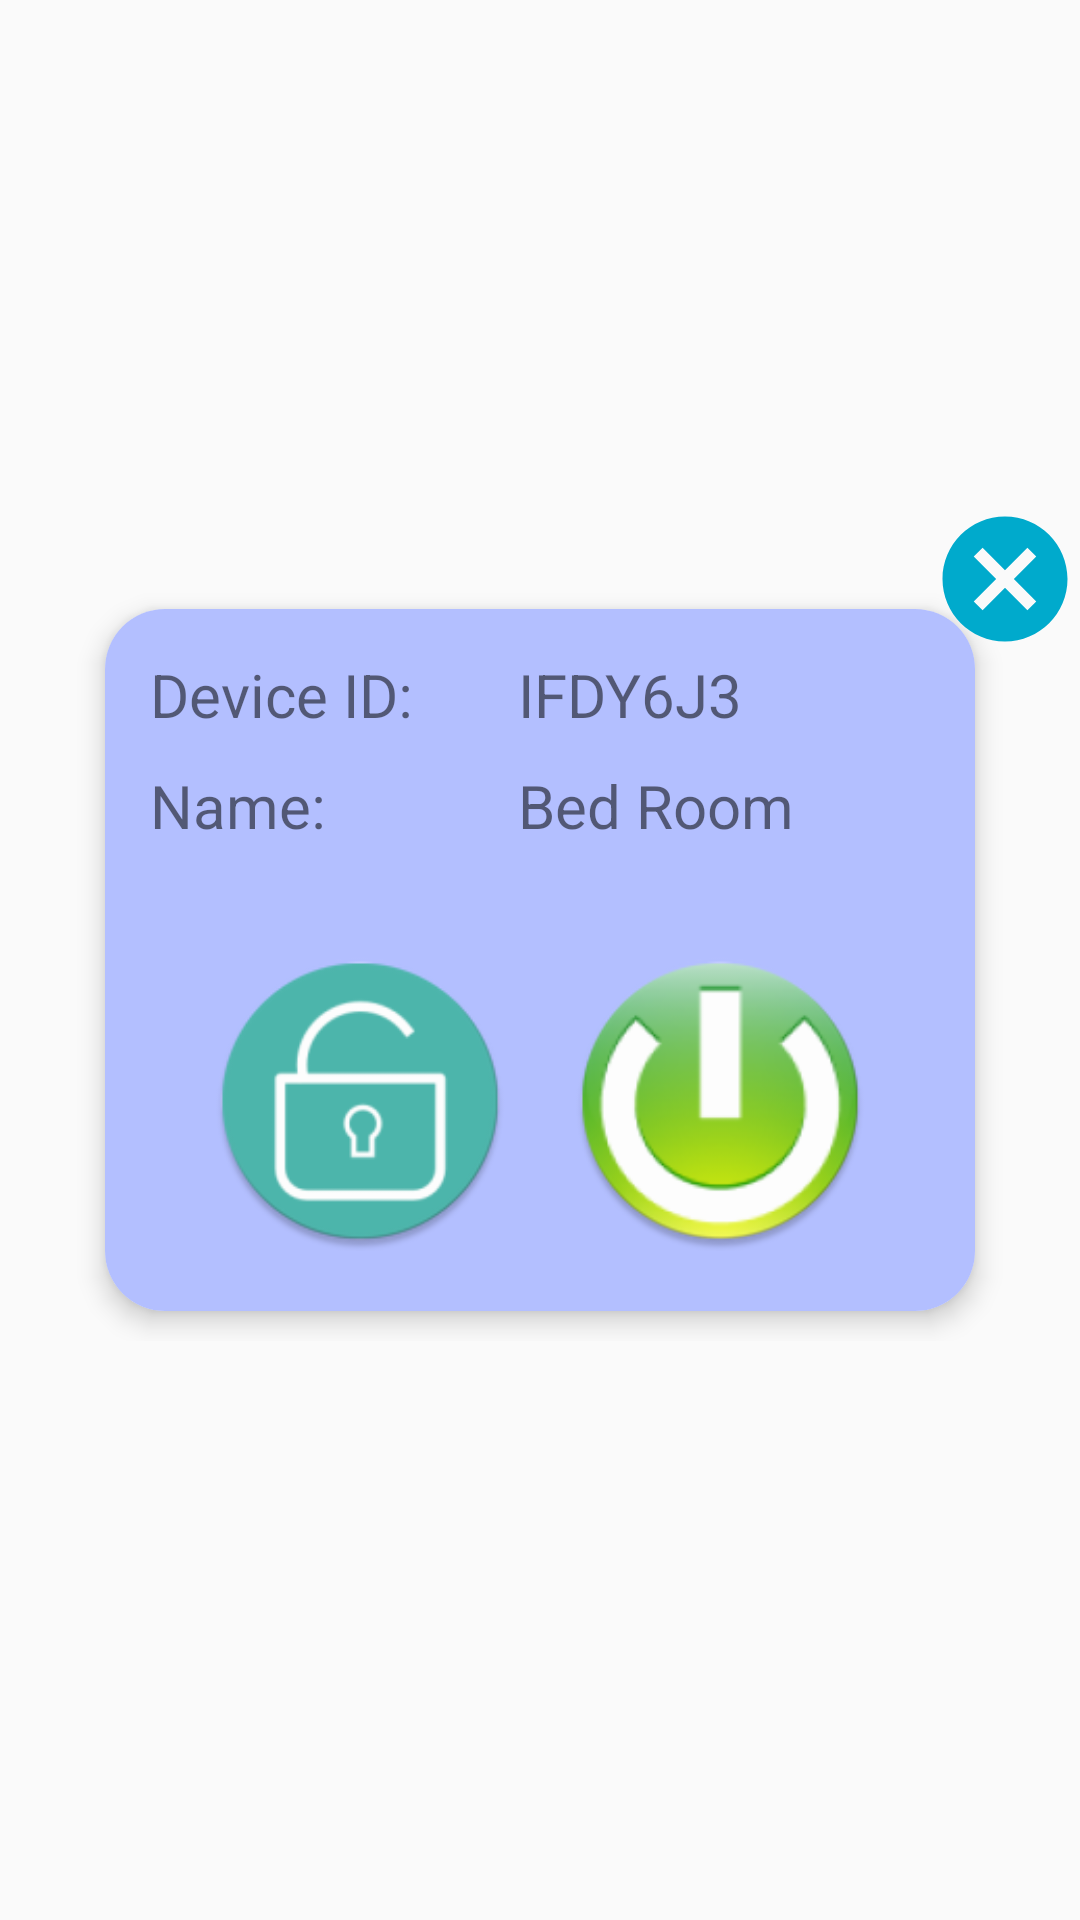

Where to tap for icons on this 1080 x 1920 app screen, as (x=x, y=y):
cancel: (x=1005, y=579)
lock open: (x=360, y=1104)
